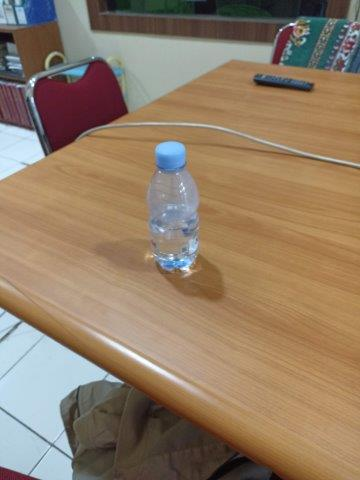botolplastik: (147, 141, 199, 272)
